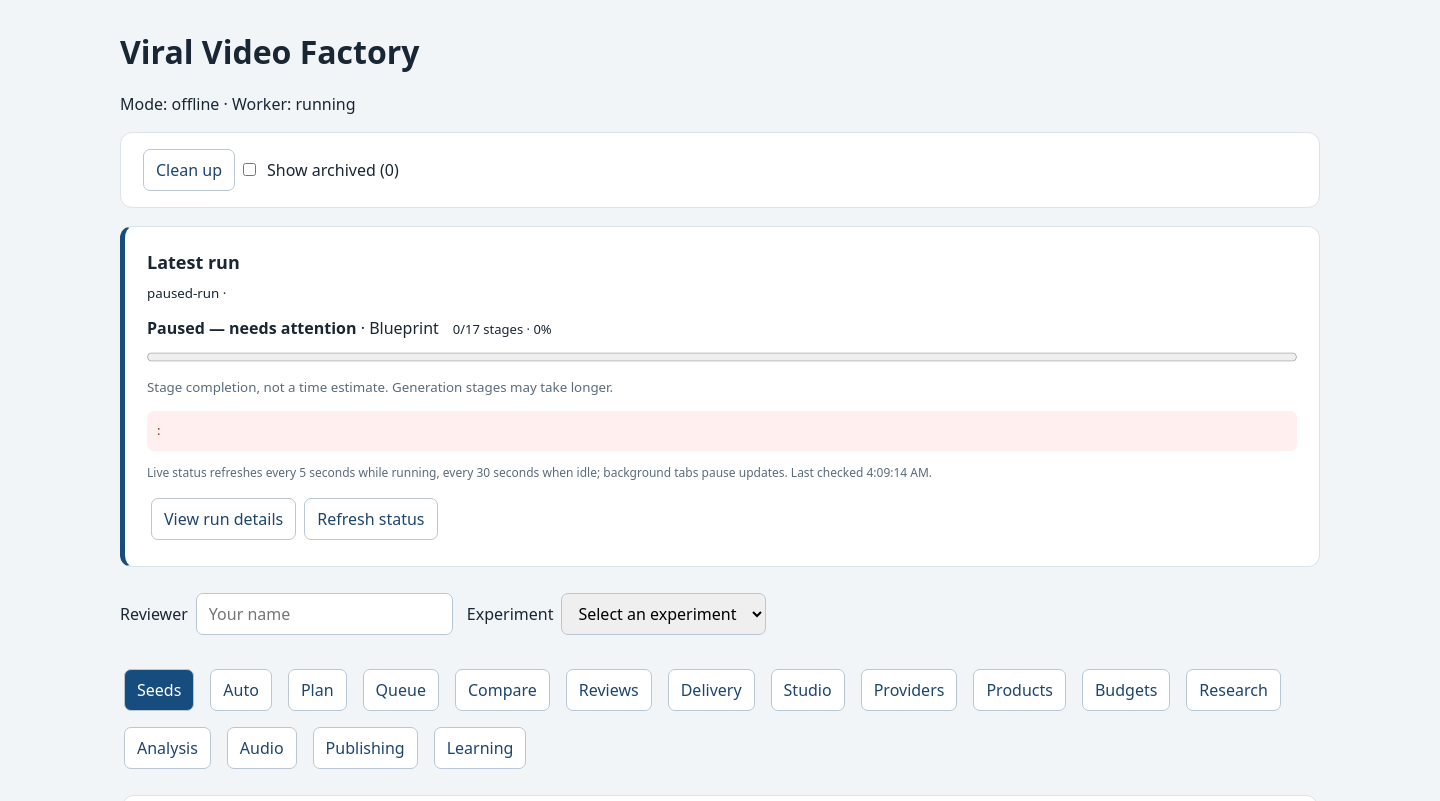
Test case: cancel is read-only and stale confirmation reports a recoverable error
Click the button "Clean up": coordinates (189, 170) [143, 149, 235, 191]
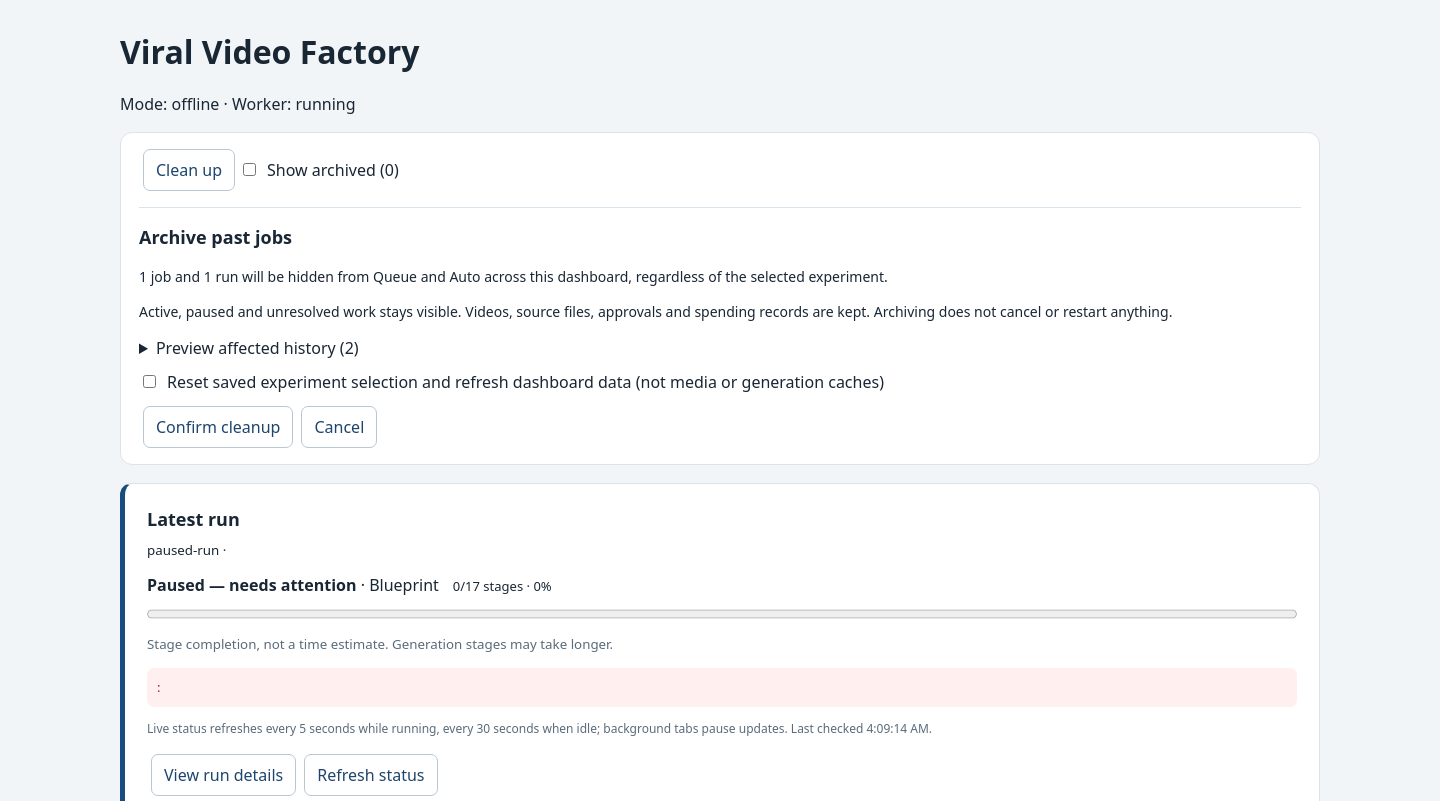
Click the button "Cancel": coordinates (339, 427) [302, 406, 377, 448]
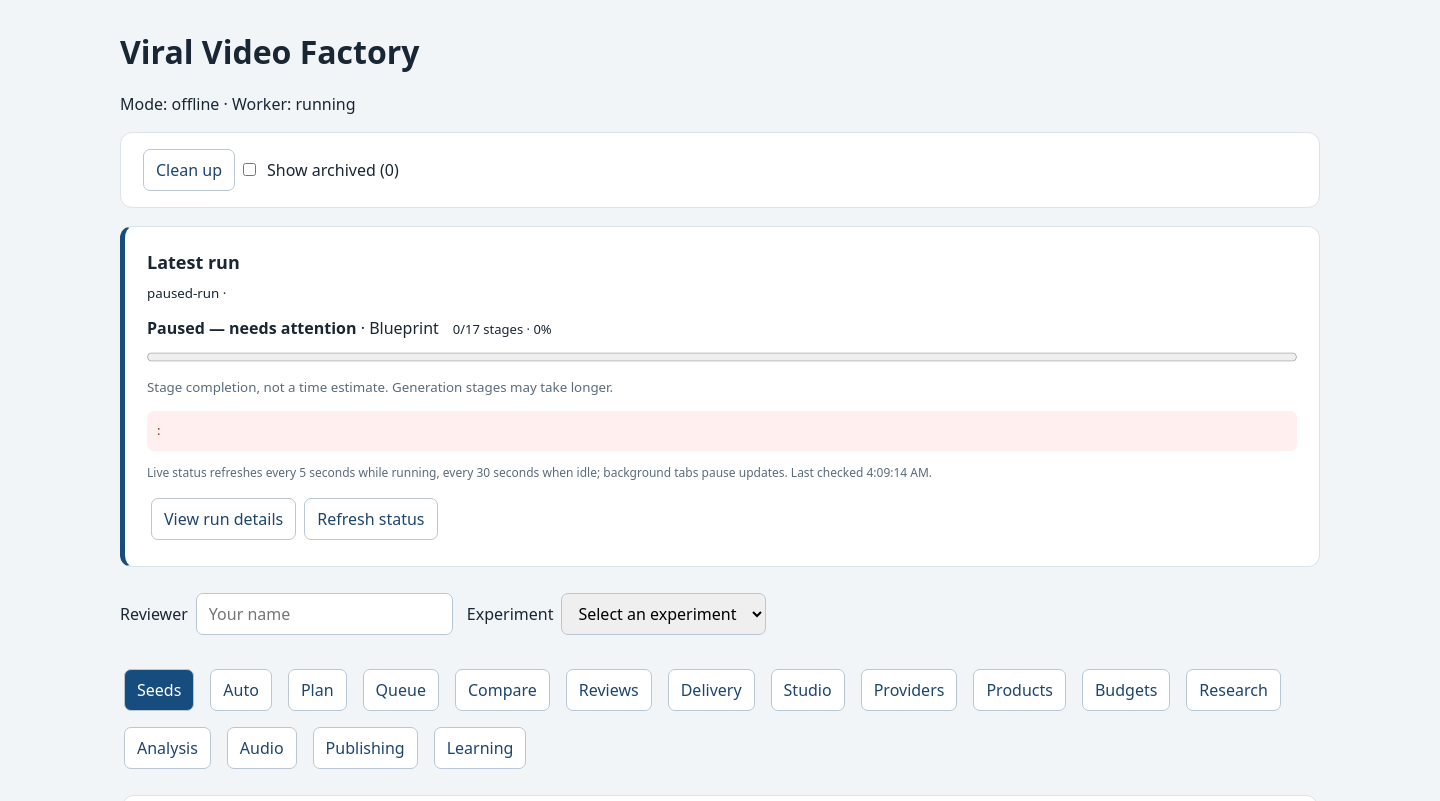
Click the button "Clean up": coordinates (189, 170) [143, 149, 235, 191]
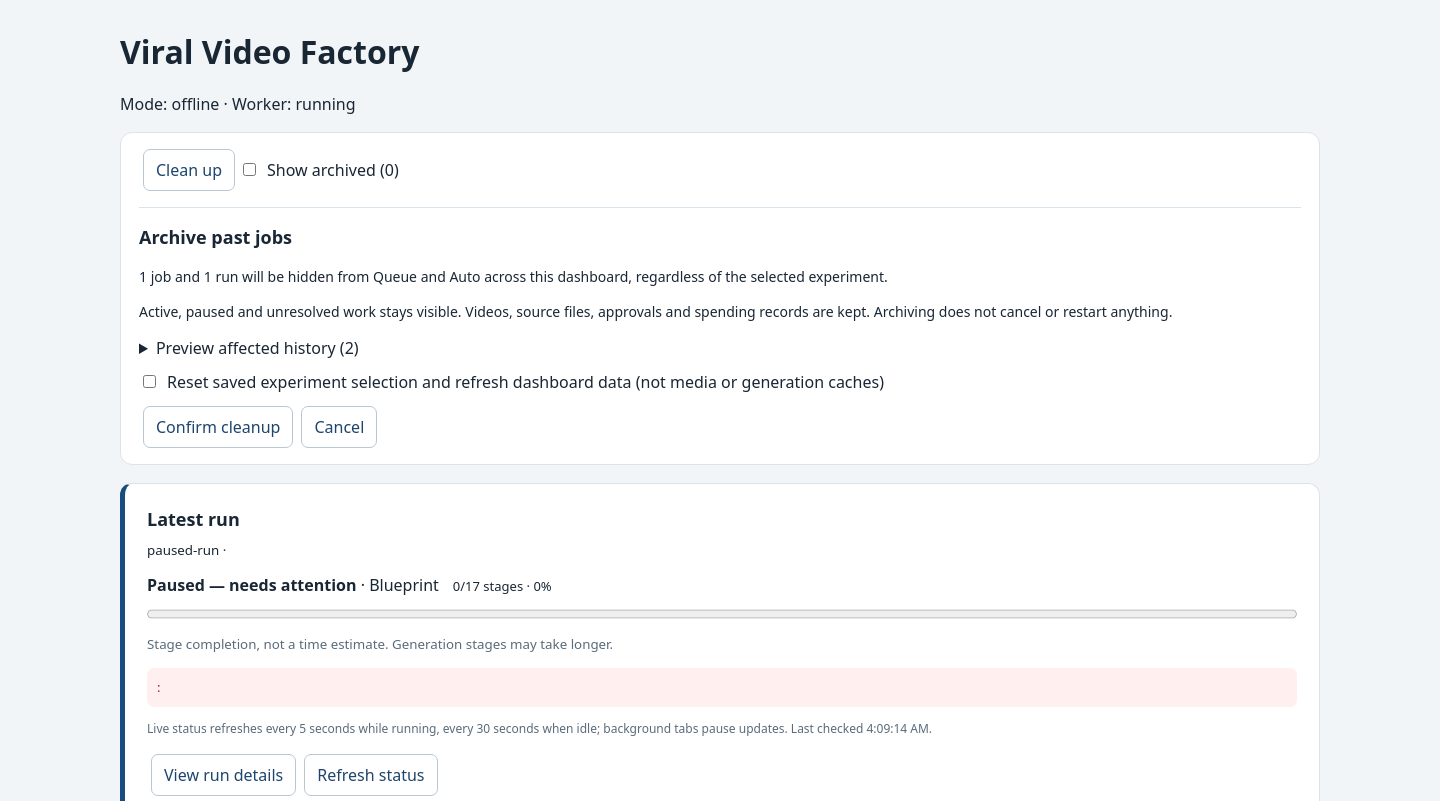
Click the button "Confirm cleanup": coordinates (218, 427) [143, 406, 294, 448]
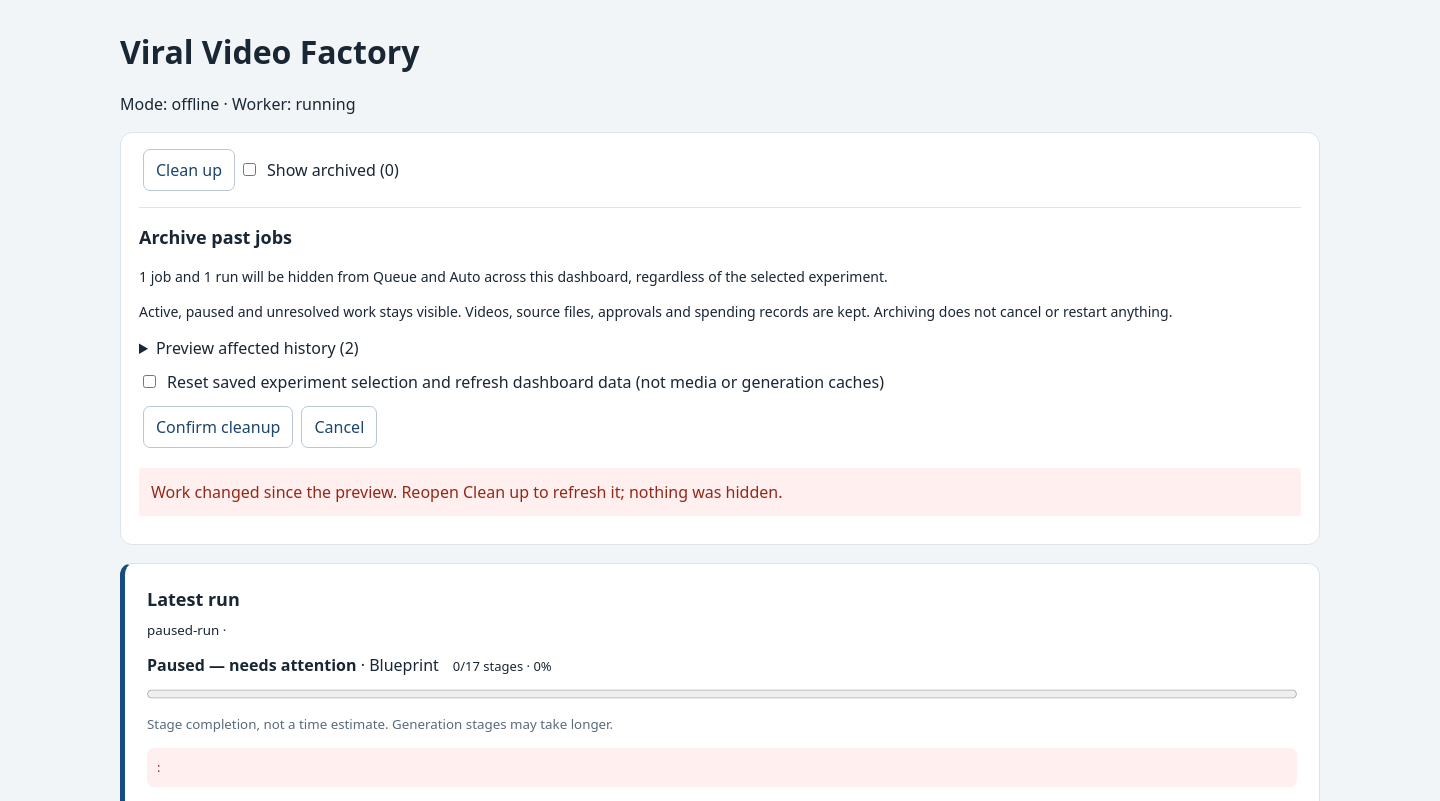
Now the element named "Cleanup preview" is shown, box [139, 207, 1301, 452]
Now the 1st message shows "nothing was hidden", box [151, 481, 782, 503]
